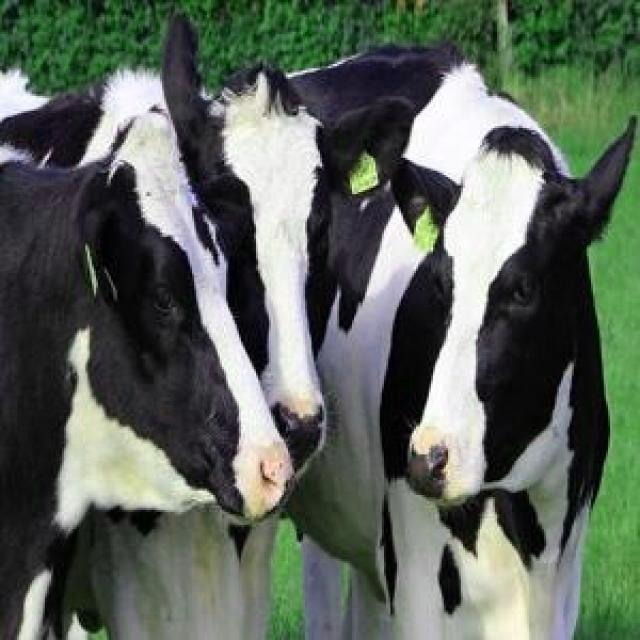cow: (292, 49, 634, 640), (0, 21, 419, 472), (0, 112, 292, 639)
